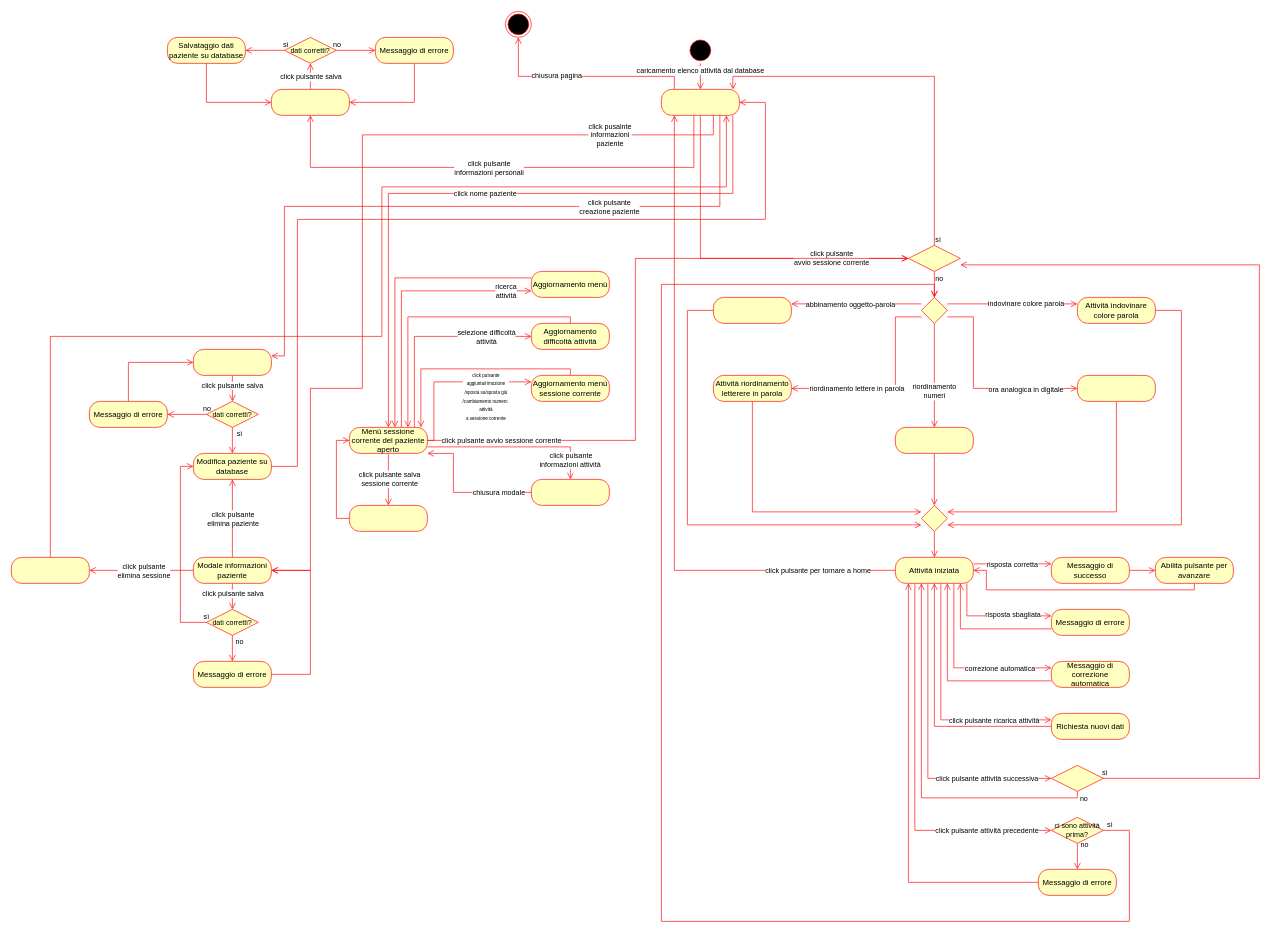
This 1277x939 diagram has some shape labels left out. The shapes that lost their labels are listed below. From the top down, each one's box as (x1, y1, x2, y2) in pixels, then its label:
(271, 89, 349, 115): Modale informazioni personali
(661, 89, 739, 115): Pagina home caregiver
(908, 245, 960, 271): sessione terminata?
(713, 297, 791, 323): Attività abbinamento oggetto-parola
(193, 349, 271, 375): Modale creazione paziente
(1077, 375, 1155, 401): Attività ora analogica in digitale
(895, 427, 973, 453): Attività riordinamento numeri
(531, 479, 609, 505): Modale con informazioni attività
(349, 505, 427, 531): Salvataggio sessione su database
(11, 557, 89, 583): Modifica storico su database
(1051, 765, 1103, 791): attività corretta?
